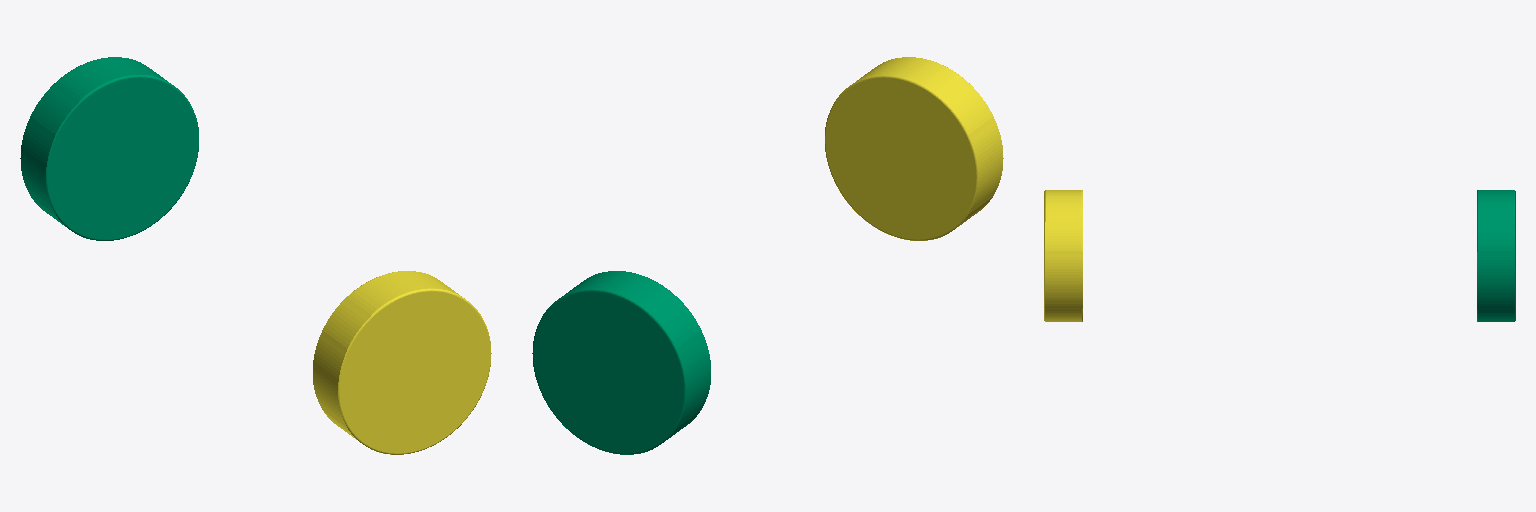
robot.urdf — kobuki:
<?xml version="1.0" ?>
<robot name="kobuki" xmlns:xacro="http://ros.org/wiki/xacro">
  <link name="base_footprint"/>
  <joint name="base_joint" type="fixed">
    <origin xyz="0 0 0.0102" rpy="0 0 0" />
    <parent link="base_footprint"/>
    <child link="base_link" />
  </joint>
  <link name="base_link">
    <visual>
      <geometry>
        <mesh filename="package://micro-ros_kobuki-demo_kobuki-description/meshes/main_body.dae" />
      </geometry>
      <origin xyz="0.001 0 0.05199" rpy="0 0 0"/>
    </visual>
    <collision name="base">
      <geometry>
        <cylinder length="0.10938" radius="0.178"/>
      </geometry>
      <origin xyz="0.0 0 0.05949" rpy="0 0 0"/>
    </collision>
    <inertial>
      <origin xyz="0.01 0 0"/>
      <mass value="2.4"/>
      <inertia ixx="0.019995" ixy="0.0" ixz="0.0"
                iyy="0.019995" iyz="0.0"
                izz="0.03675" />
    </inertial>
  </link>

  <joint name="wheel_left_joint" type="fixed">
    <parent link="base_link"/>
    <child link="wheel_left_link"/>
    <origin xyz="0.00 0.115 0.0250" rpy="-1.5708 0 0"/>
  </joint>
  <link name="wheel_left_link">
    <visual>
      <geometry>
        <mesh filename="package://micro-ros_kobuki-demo_kobuki-description/meshes/wheel.dae"/>
      </geometry>
      <origin xyz="0 0 0" rpy="0 0 0"/>
    </visual>
    <collision>
      <geometry>
        <cylinder length="0.0206" radius="0.0352"/>
      </geometry>
      <origin rpy="0 0 0" xyz="0 0 0"/>
    </collision>
    <inertial>
      <mass value="0.01" />
      <origin xyz="0 0 0" />
      <inertia ixx="0.001" ixy="0.0" ixz="0.0"
                iyy="0.001" iyz="0.0"
                izz="0.001" />
    </inertial>
  </link>

  <joint name="wheel_right_joint" type="fixed">
    <parent link="base_link"/>
    <child link="wheel_right_link"/>
    <origin xyz="0.00 -0.115 0.0250" rpy="-1.5708 0 0"/>
  </joint>
  <link name="wheel_right_link">
    <visual>
      <geometry>
        <mesh filename="package://micro-ros_kobuki-demo_kobuki-description/meshes/wheel.dae"/>
      </geometry>
      <origin xyz="0 0 0" rpy="0 0 0"/>
    </visual>
    <collision>
      <geometry>
        <cylinder length="0.0206" radius="0.0350"/>
      </geometry>
      <origin rpy="0 0 0" xyz="0 0 0"/>
    </collision>
    <inertial>
      <mass value="0.01" />
      <origin xyz="0 0 0" />
      <inertia ixx="0.001" ixy="0.0" ixz="0.0"
                iyy="0.001" iyz="0.0"
                izz="0.001" />
    </inertial>
  </link>

  <joint name="caster_front_joint" type="fixed">
    <parent link="base_link"/>
    <child link="caster_front_link"/>
    <origin xyz="0.115 0.0 0.007" rpy="-1.5708 0 0"/>
  </joint>
  <link name="caster_front_link">
    <collision>
      <geometry>
        <cylinder length="0.0176" radius="0.017"/>
      </geometry>
      <origin rpy="0 0 0" xyz="0 0 0"/>
    </collision>
    <inertial>
      <mass value="0.01" />
      <origin xyz="0 0 0" />
      <inertia ixx="0.001" ixy="0.0" ixz="0.0"
                iyy="0.001" iyz="0.0"
                izz="0.001" />
    </inertial>
  </link>

  <joint name="caster_back_joint" type="fixed">
    <parent link="base_link"/>
    <child link="caster_back_link"/>
    <origin xyz="-0.135 0.0 0.009" rpy="-1.5708 0 0"/>
  </joint>
  <link name="caster_back_link">
    <collision>
      <geometry>
        <cylinder length="0.0176" radius="0.017"/>
      </geometry>
      <origin rpy="0 0 0" xyz="0 0 0"/>
    </collision>
    <inertial>
      <mass value="0.01" />
      <origin xyz="0 0 0" />
      <inertia ixx="0.001" ixy="0.0" ixz="0.0"
                iyy="0.001" iyz="0.0"
                izz="0.001" />
    </inertial>
  </link>

  <!-- Kobuki's sensors -->
  <joint name="gyro_joint" type="fixed">
    <axis xyz="0 1 0"/>
    <origin xyz="0.056 0.062 0.0202" rpy="0 0 0"/>
    <parent link="base_link"/>
    <child link="gyro_link"/>
  </joint>
  <link name="gyro_link">
    <inertial>
      <mass value="0.001"/>
      <origin xyz="0 0 0" rpy="0 0 0"/>
      <inertia ixx="0.0001" ixy="0" ixz="0"
                iyy="0.000001" iyz="0"
                izz="0.0001"/>
    </inertial>
  </link>

  <joint name="cliff_sensor_left_joint" type="fixed">
    <origin xyz="0.08734 0.13601 0.0214" rpy="0 1.5708 0" />
    <parent link="base_link"/>
    <child link="cliff_sensor_left_link" />
  </joint>
  <link name="cliff_sensor_left_link">
    <inertial>
      <mass value="0.0001" />
      <origin xyz="0 0 0" />
      <inertia ixx="0.0001" ixy="0.0" ixz="0.0"
                iyy="0.0001" iyz="0.0"
                izz="0.0001" />
    </inertial>
  </link>

  <joint name="cliff_sensor_right_joint" type="fixed">
    <origin xyz="0.085 -0.13601 0.0214" rpy="0 1.5708 0" />
    <parent link="base_link"/>
    <child link="cliff_sensor_right_link" />
  </joint>
  <link name="cliff_sensor_right_link">
    <inertial>
      <mass value="0.0001" />
      <origin xyz="0 0 0" />
      <inertia ixx="0.0001" ixy="0.0" ixz="0.0"
                iyy="0.0001" iyz="0.0"
                izz="0.0001" />
    </inertial>
  </link>

  <joint name="cliff_sensor_front_joint" type="fixed">
    <origin xyz="0.156 0.00 0.0214" rpy="0 1.5708 0" />
    <parent link="base_link"/>
    <child link="cliff_sensor_front_link" />
  </joint>
  <link name="cliff_sensor_front_link">
    <inertial>
      <mass value="0.0001" />
      <origin xyz="0 0 0" />
      <inertia ixx="0.0001" ixy="0.0" ixz="0.0"
                iyy="0.0001" iyz="0.0"
                izz="0.0001" />
    </inertial>
  </link>

</robot>

--- What the picture shows (computed from the rendered views, not written in the file) ---
The picture shows the robot from 3 angles, left to right: view 1: azimuth 30°, elevation 25°; view 2: azimuth 150°, elevation 25°; view 3: azimuth 270°, elevation 25°; orthographic projection.
Robot: kobuki — 10 links, 9 joints (9 fixed); root link base_footprint; default pose: all joints at 0.
Visible links, largest first — view 1: wheel_left_link, wheel_right_link; view 2: wheel_left_link, wheel_right_link; view 3: wheel_left_link, wheel_right_link.
Link boxes in pixels (x1,y1,x2,y2): wheel_left_link: (20, 57, 198, 240); wheel_right_link: (313, 271, 491, 454); wheel_left_link: (532, 271, 710, 454); wheel_right_link: (825, 57, 1003, 240); wheel_left_link: (1477, 190, 1515, 321); wheel_right_link: (1044, 190, 1082, 321).
Bounding box of the posed robot: 0.0698 × 0.2506 × 0.0704 m (x, y, z).
2 mesh visuals loaded from 2 distinct referenced files (1 Collada DAE); not drawn: 1 (reference not matched to a file when rendering).